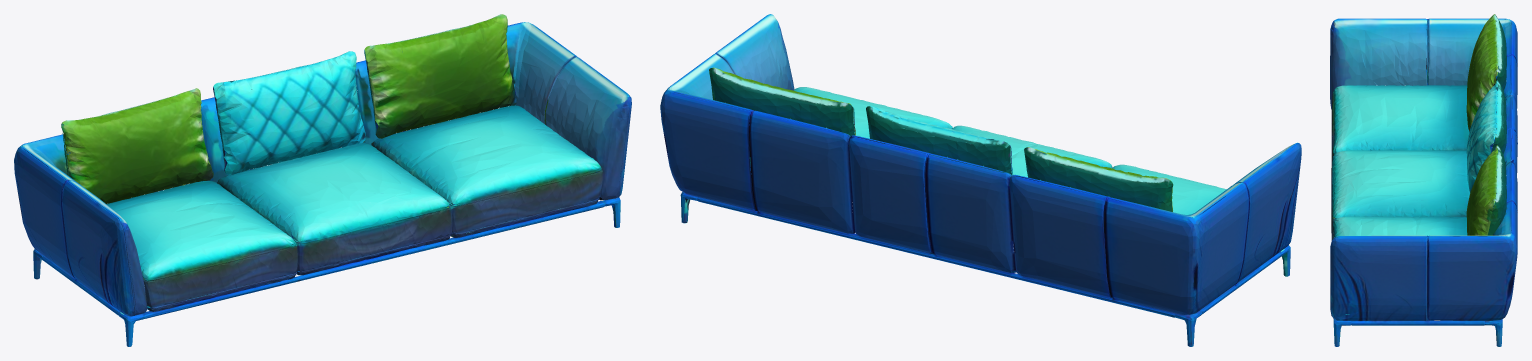
The model's file is edited_mesh.glb.
3 renders of one model, left to right at view 1: azimuth 30°, elevation 25°; view 2: azimuth 150°, elevation 25°; view 3: azimuth 270°, elevation 25°, orthographic. The views are drawn at different scales.
Parts seen in each view (by area): view 1: solid_001_wire; view 2: solid_001_wire; view 3: solid_001_wire.
Part boxes in pixels (x1,y1,x2,y2): solid_001_wire: [14, 14, 631, 346]; solid_001_wire: [660, 14, 1301, 346]; solid_001_wire: [1330, 14, 1517, 346].
Size of the model in its own units: 2 by 0.5632 by 0.7137.
Materials: 1 (1 with a texture image).
